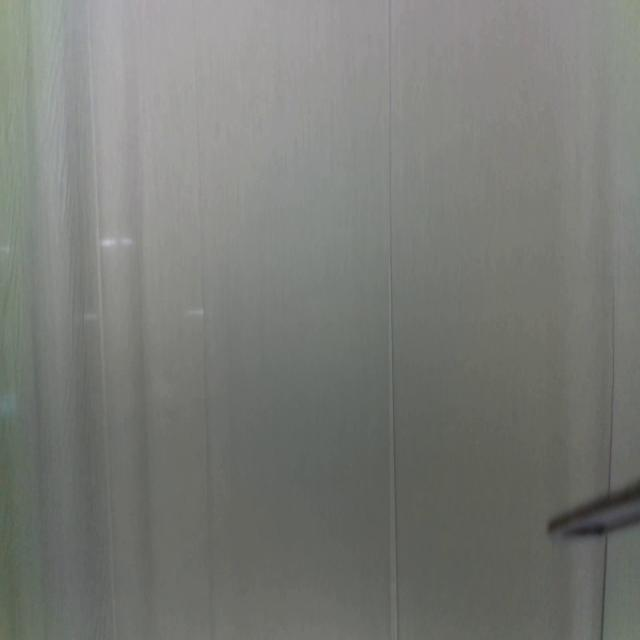crease: (87, 0, 118, 640), (190, 0, 216, 640), (387, 0, 401, 640), (604, 281, 618, 492), (599, 538, 611, 636)
